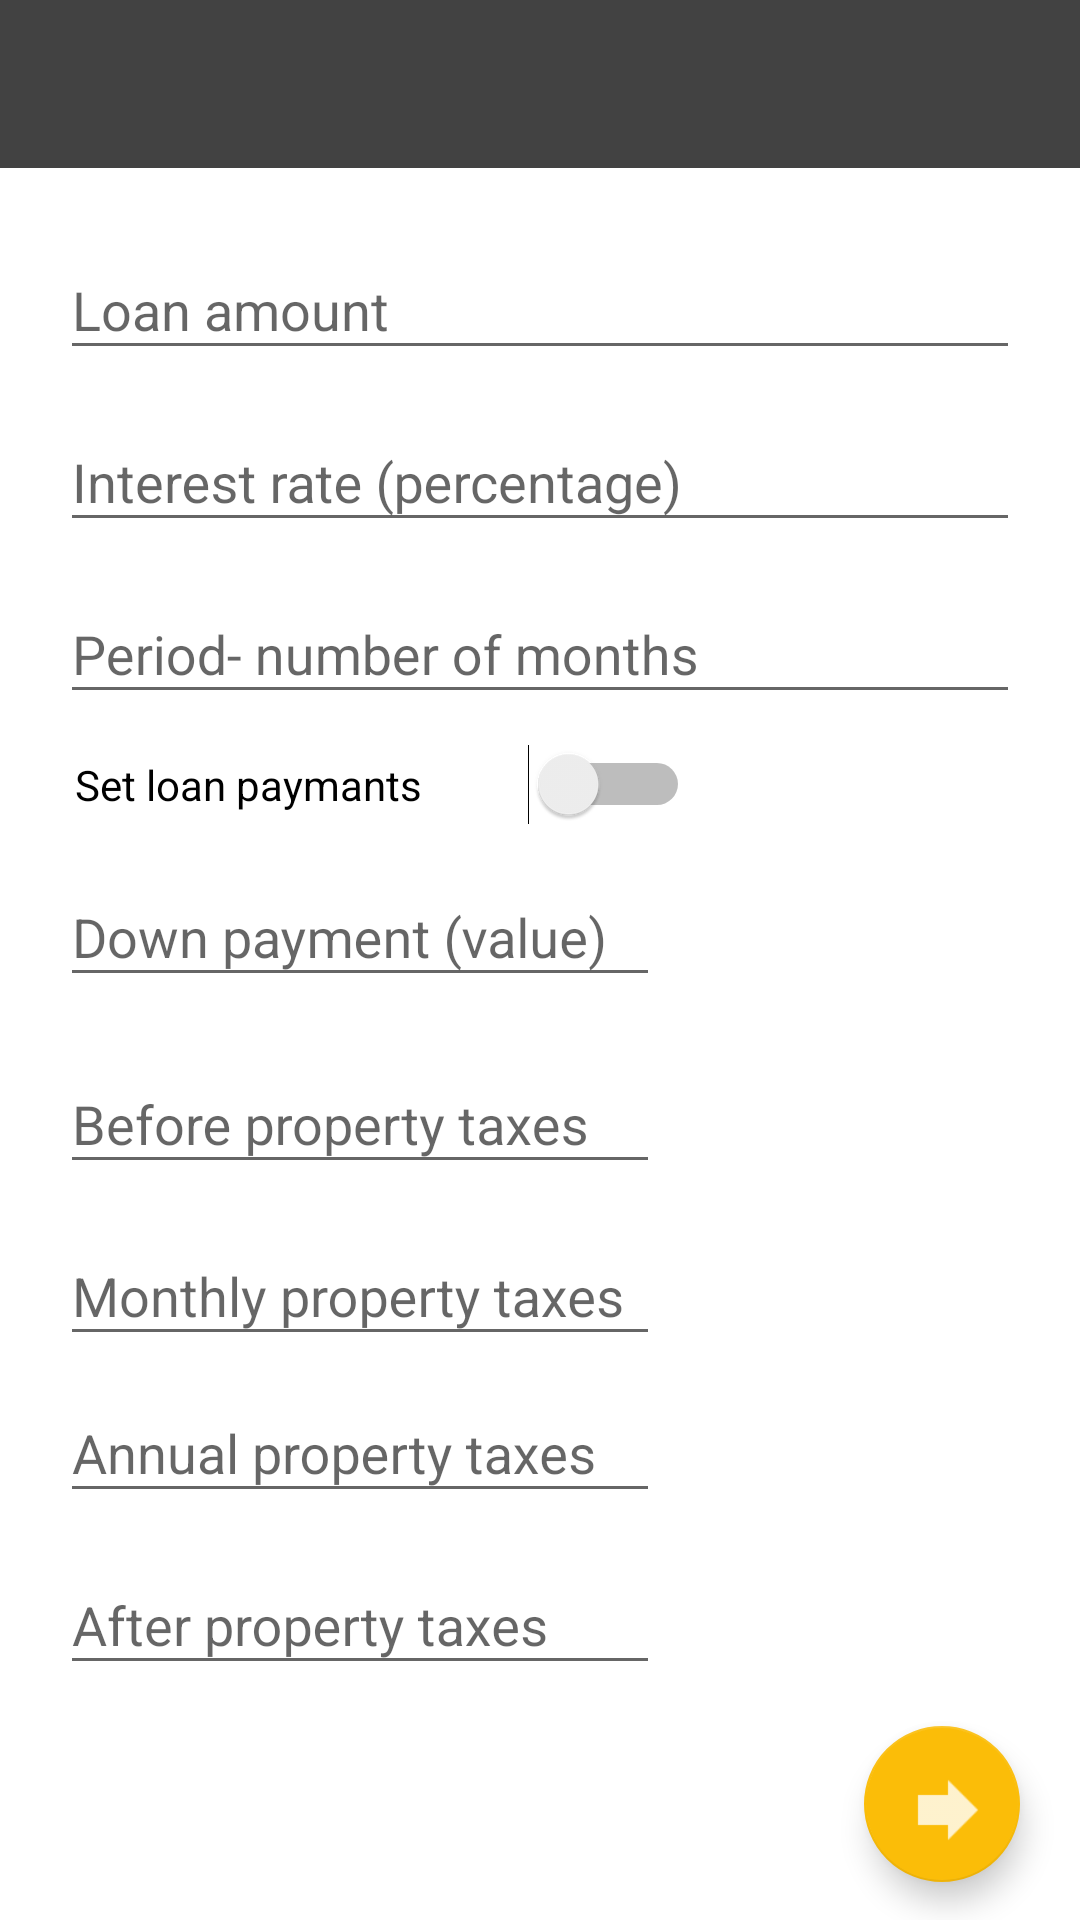

Icons on this 1080x1920 Android screen, each with its box as (x1, y1, x2, y2):
next: (864, 1726, 1020, 1882)
